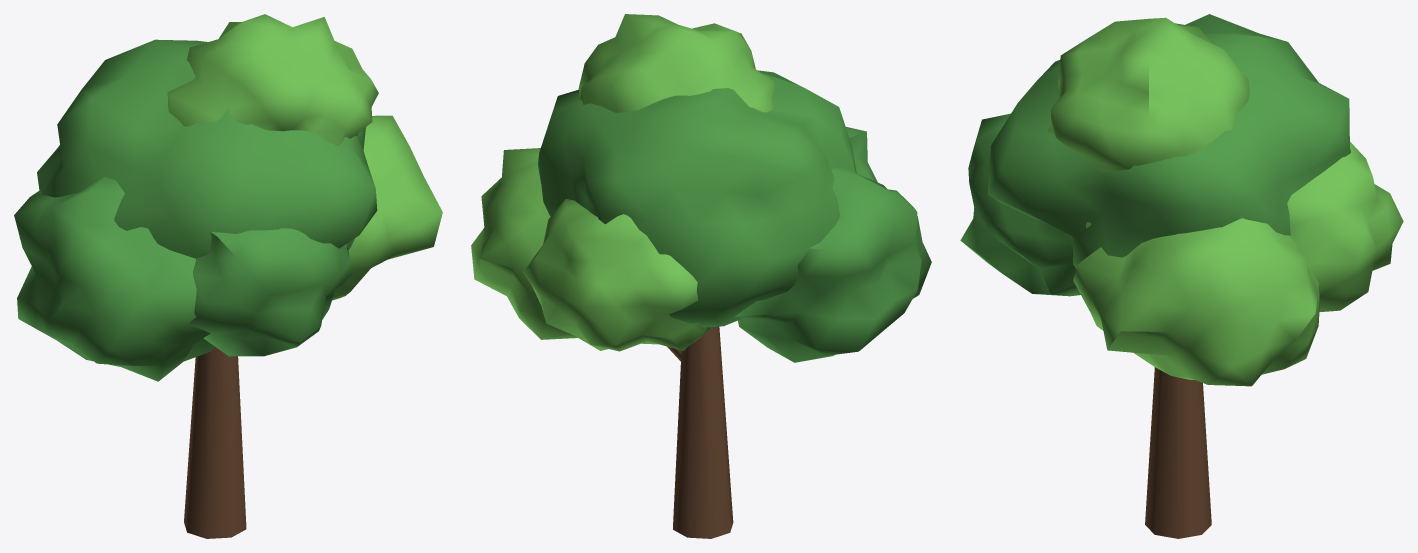
Rendered from tree_0.glb.
3 views of the same model, side by side, from view 1: azimuth 30°, elevation 25°; view 2: azimuth 150°, elevation 25°; view 3: azimuth 270°, elevation 25° (orthographic). The views are drawn at different scales.
Parts seen in each view (by area): view 1: Tree; view 2: Tree; view 3: Tree.
Part boxes in pixels (x1,y1,x2,y2): Tree: (14, 14, 442, 538); Tree: (471, 14, 931, 538); Tree: (960, 14, 1403, 538).
Bounding box in the file's own units: 4.95 × 5.81 × 4.51.
